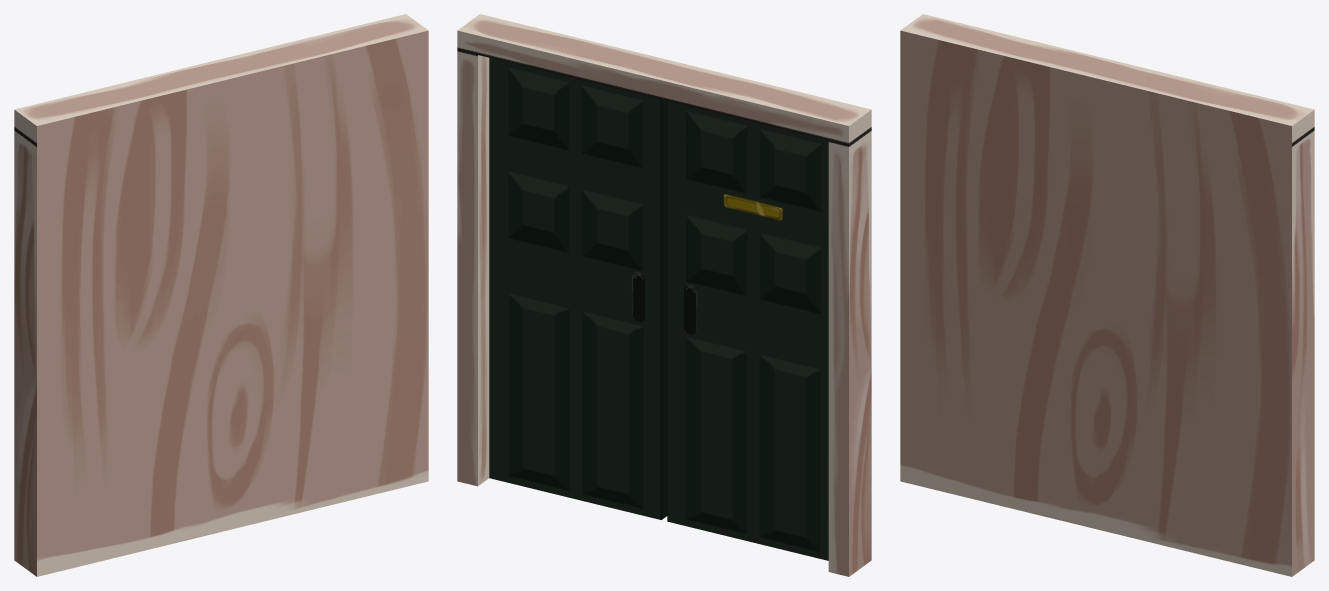
File: door02.fbx
3 views of the same model, side by side, from view 1: azimuth 30°, elevation 25°; view 2: azimuth 150°, elevation 25°; view 3: azimuth 330°, elevation 25° (orthographic).
Visible parts, largest first — view 1: door02; view 2: door02; view 3: door02.
Part boxes in pixels (x1,y1,x2,y2): door02: (14, 14, 428, 576); door02: (457, 14, 871, 576); door02: (900, 14, 1314, 576).
Size of the model in its own units: 200 by 220 by 20.
